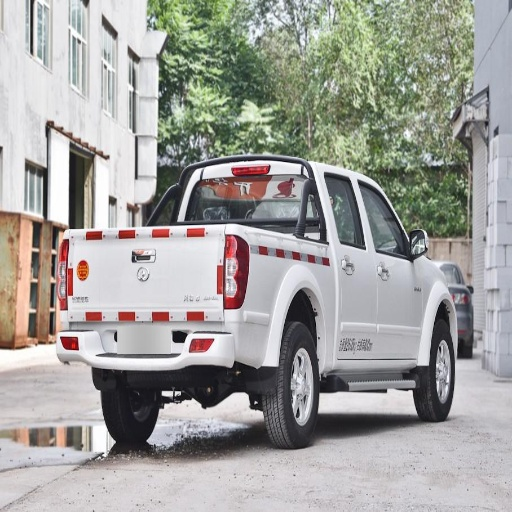back_bumper: (82, 324, 241, 372)
back_right_door: (320, 171, 377, 361)
trunk: (78, 227, 326, 365)
